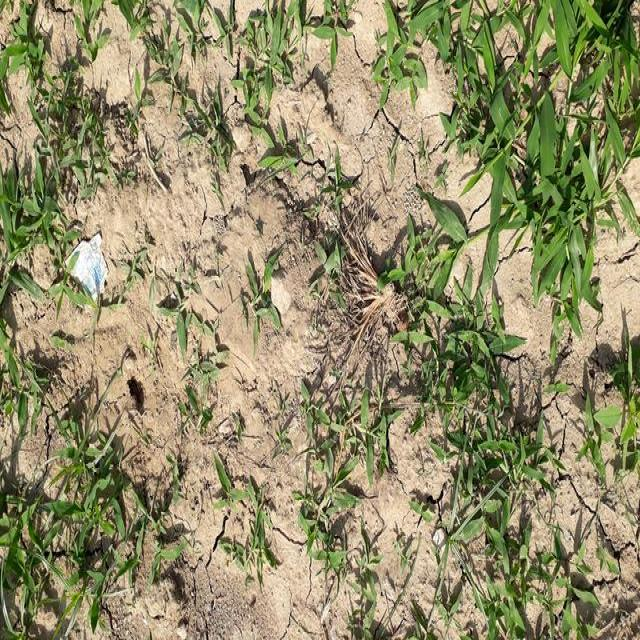weed: (403, 1, 640, 311), (1, 332, 180, 640), (433, 332, 566, 640), (0, 0, 86, 264)
